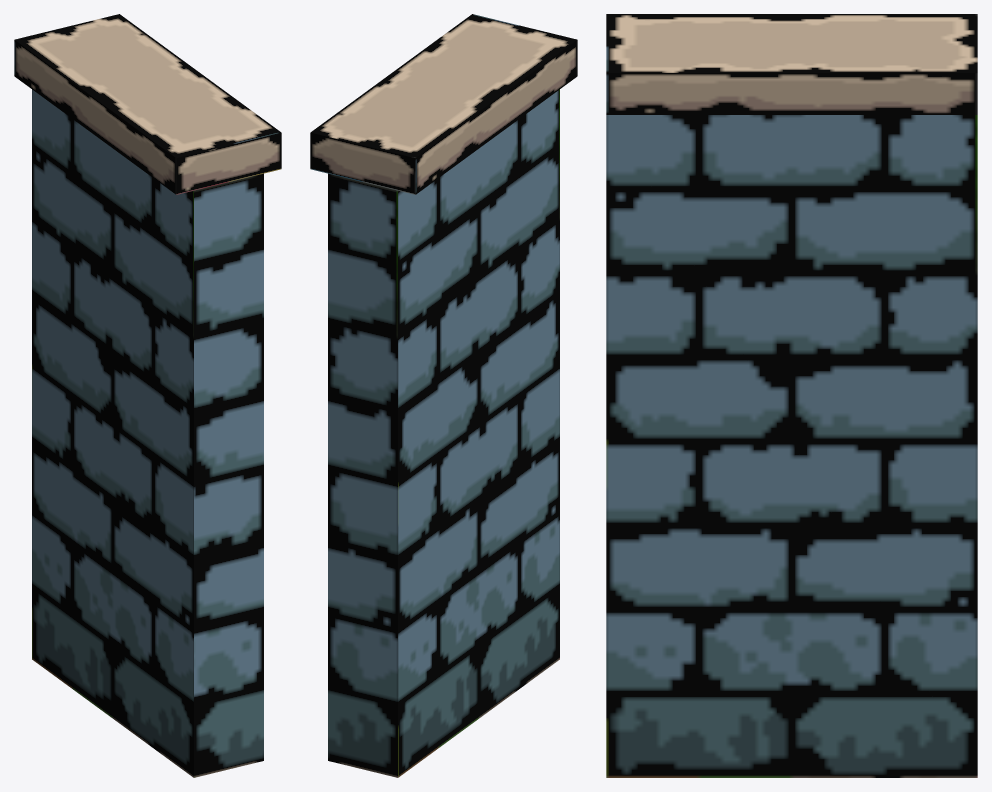
Rendered from deco_wallTall_A.FBX.
The picture shows the model from 3 angles, left to right: view 1: azimuth 30°, elevation 25°; view 2: azimuth 150°, elevation 25°; view 3: azimuth 270°, elevation 25°; orthographic projection. The views are drawn at different scales.
Visible parts, largest first — view 1: deco_wallTall_A; view 2: deco_wallTall_A; view 3: deco_wallTall_A.
Part boxes in pixels (bbox=[...]): deco_wallTall_A: bbox=[14, 14, 281, 777]; deco_wallTall_A: bbox=[310, 14, 577, 777]; deco_wallTall_A: bbox=[606, 14, 977, 777].
Size of the model in its own units: 0.75 by 4.25 by 2.
1 material, 1 textured.
